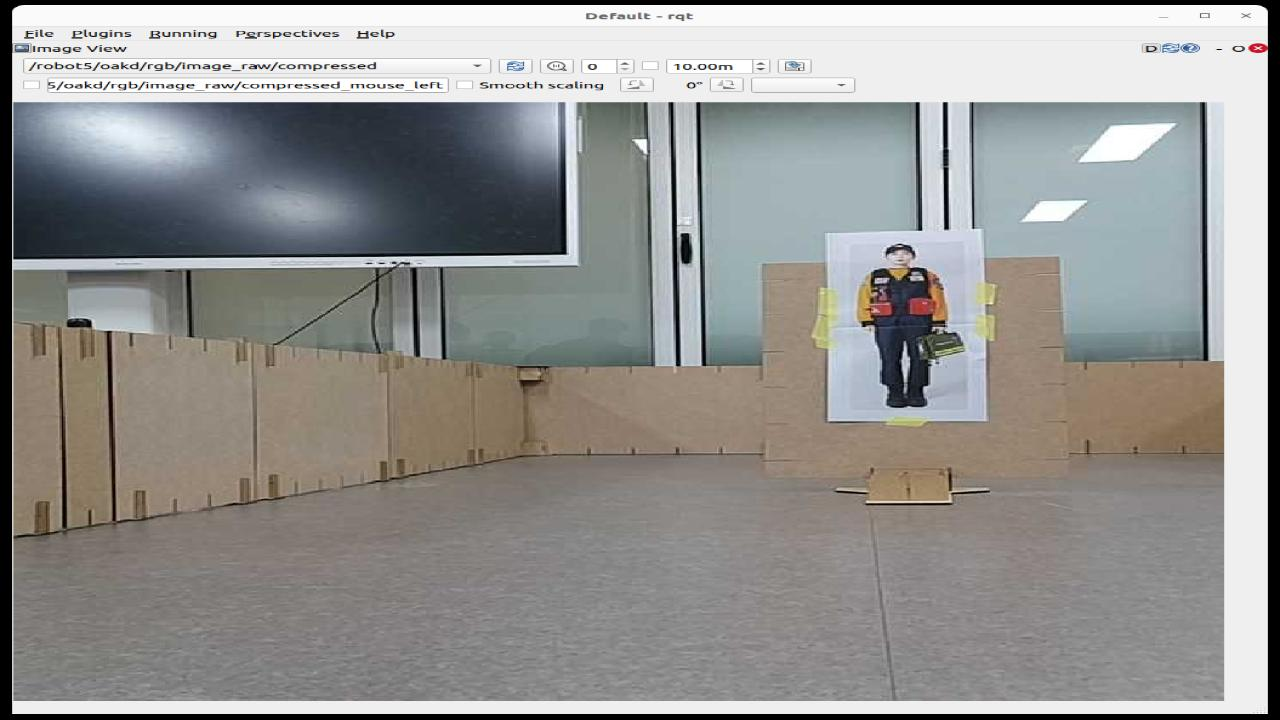Responder: (858, 243, 962, 408)
